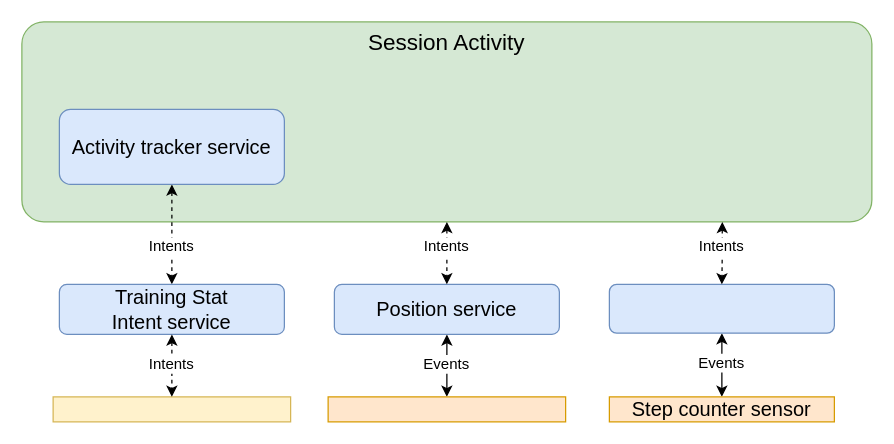
The diagram is 894 pixels wide and 444 high, and some of its shapes have lost their labels. The centre of each missing label's shape, as x and y in pixels:
Bluetooth beacon SDK: point (446, 409)
Google activity recognition: point (171, 409)
Sensor service: point (721, 308)
